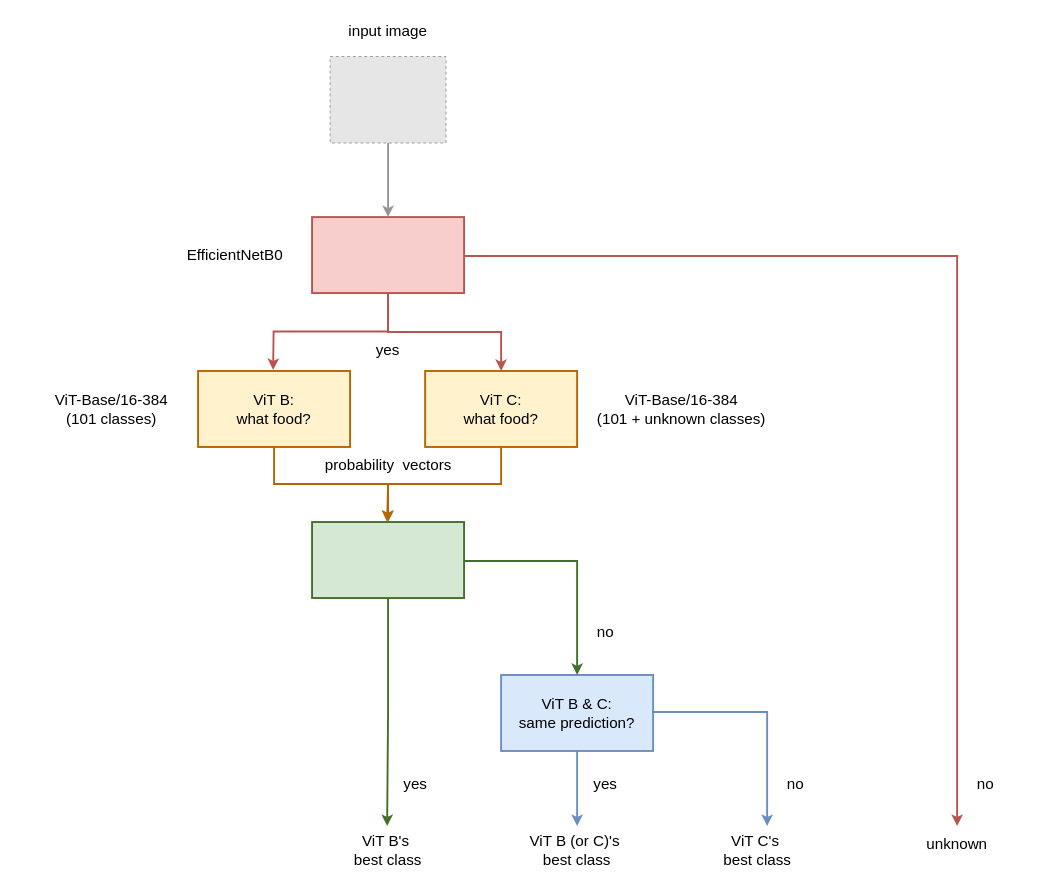
Some shapes in this 1058 by 884 pixel diagram are drawn without their labels. Grey dashed boxes stand in for pictures. The shapes that lost their labels are listed below. From the top down, each one's centre as x and y in pixels, then its label:
At point (388, 255): "is it food?".
At point (388, 559): "ViT B: entropy < threshold?".
